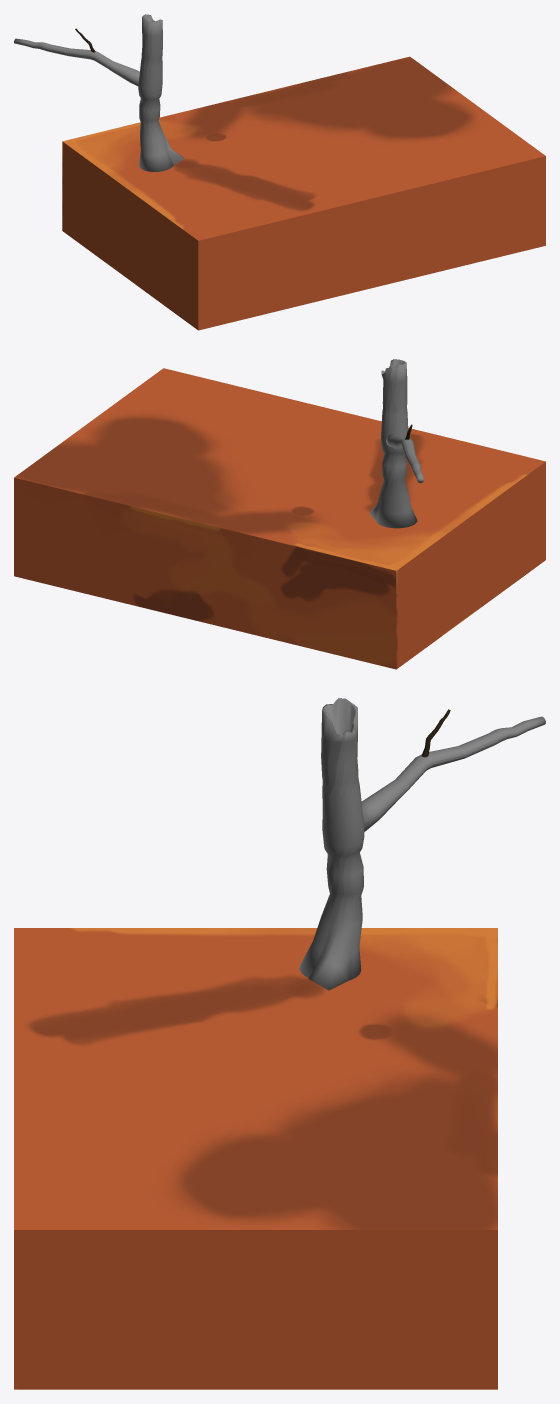
File: Tree.fbx
3 views of the same model, one above another, from view 1: azimuth 30°, elevation 25°; view 2: azimuth 150°, elevation 25°; view 3: azimuth 270°, elevation 25° (orthographic). The views are drawn at different scales.
Visible parts, largest first — view 1: Block, TreeTrunk, TreeBranch; view 2: Block, TreeTrunk, TreeBranch; view 3: Block, TreeTrunk, TreeBranch.
Part boxes in pixels (x1,y1,x2,y2): Block: (62, 56, 545, 330); TreeTrunk: (138, 14, 184, 171); TreeBranch: (14, 38, 139, 86); Block: (14, 368, 545, 669); TreeTrunk: (369, 359, 417, 528); TreeBranch: (386, 433, 423, 483); Block: (14, 928, 497, 1389); TreeTrunk: (299, 698, 364, 990); TreeBranch: (361, 716, 545, 831).
Size of the model in its own units: 839 by 493 by 565.
